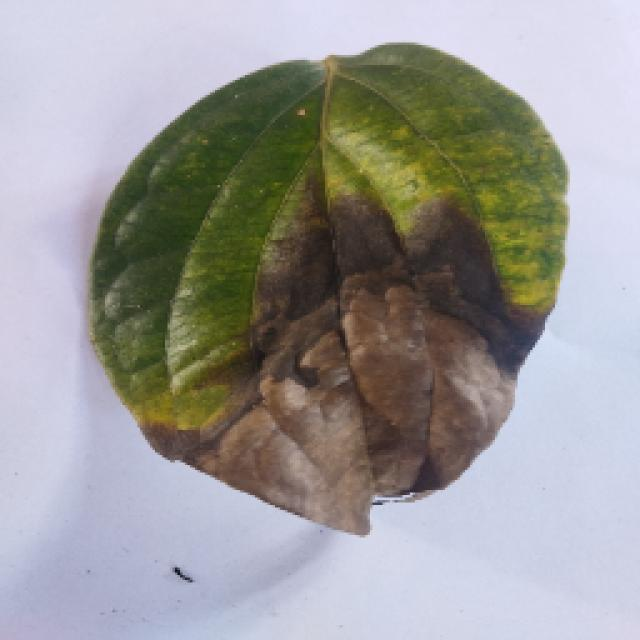footrot: (85, 43, 567, 535)
